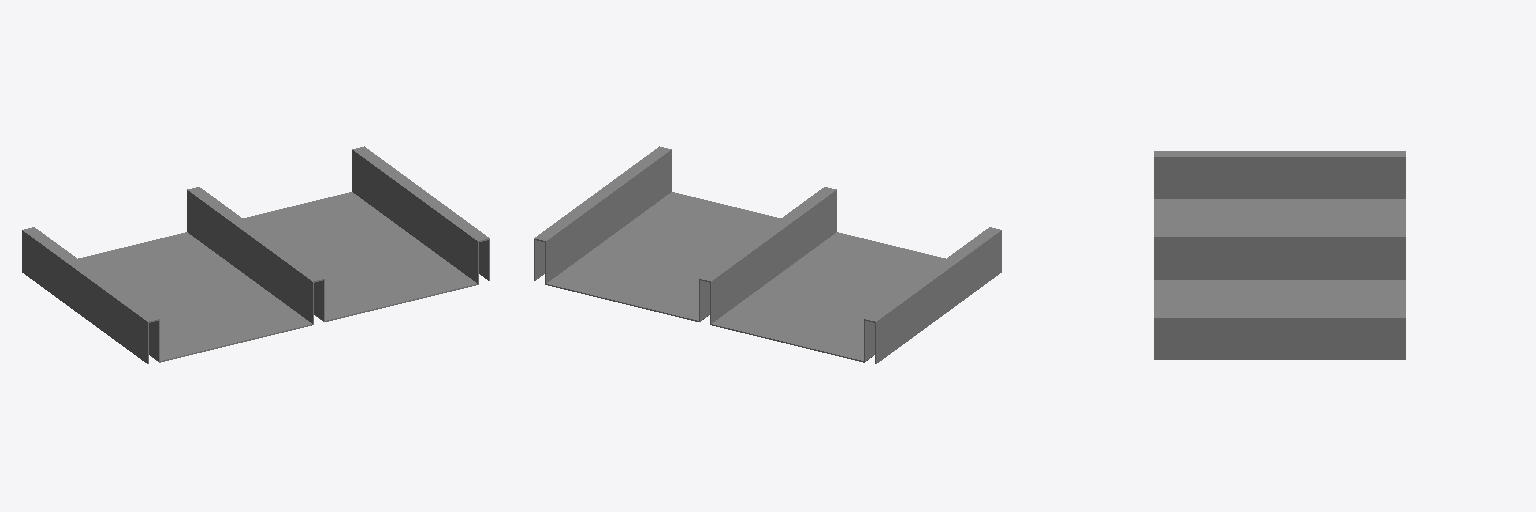
The model's file is cft.obj.
3 renders of one model, left to right at view 1: azimuth 30°, elevation 25°; view 2: azimuth 150°, elevation 25°; view 3: azimuth 270°, elevation 25°, orthographic.
Parts seen in each view (by area): view 1: Obj_000004; view 2: Obj_000004; view 3: Obj_000004.
Part boxes in pixels (bbox=[...]): Obj_000004: bbox=[22, 146, 489, 363]; Obj_000004: bbox=[534, 146, 1001, 363]; Obj_000004: bbox=[1154, 151, 1405, 359].
Size of the model in its own units: 270 by 33 by 172.